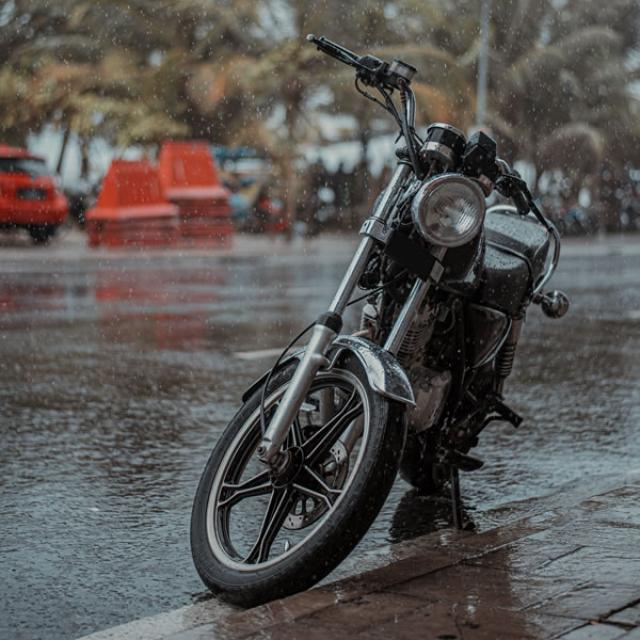MOTORCYCLE: (202, 102, 569, 582)
